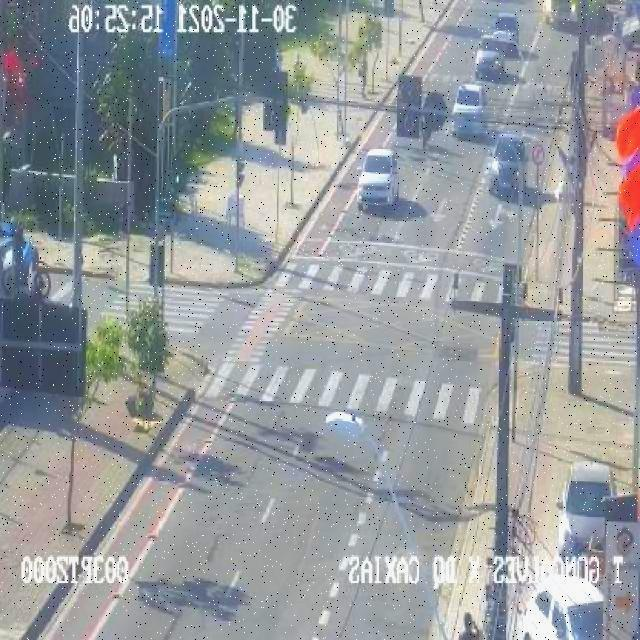Car: (549, 456, 622, 567), (514, 565, 614, 640), (352, 148, 399, 212), (486, 138, 532, 196), (446, 86, 496, 136), (466, 36, 510, 76), (488, 16, 520, 51)
Cycle: (0, 212, 54, 301)
